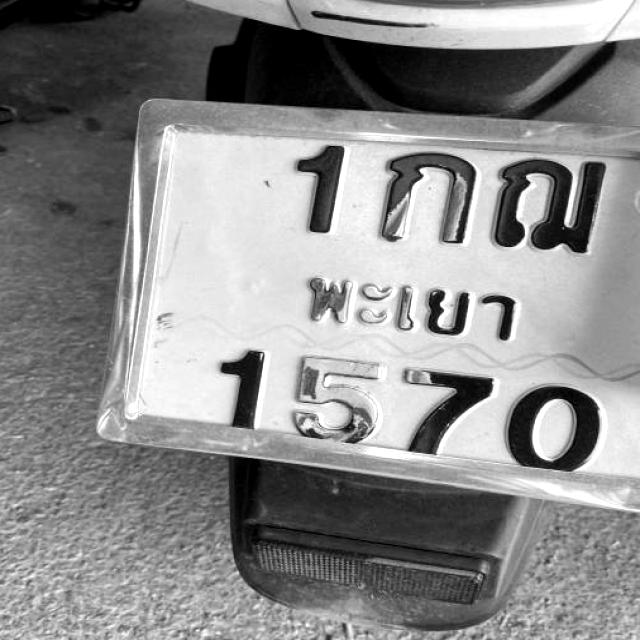letters: (480, 152, 610, 257), (508, 372, 620, 482), (292, 341, 386, 452), (377, 144, 475, 247), (400, 361, 500, 457), (282, 146, 352, 241), (228, 332, 272, 431)
license-plate: (109, 105, 640, 497)
province: (286, 248, 543, 356)
